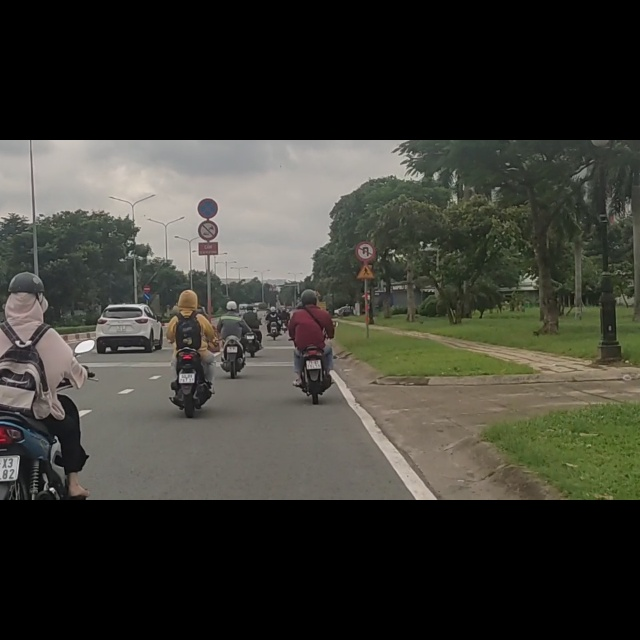bien_hieu_lenh: (199, 143, 219, 179), (355, 180, 375, 216), (198, 103, 217, 140), (355, 217, 375, 248), (142, 256, 151, 271), (143, 271, 151, 284)
